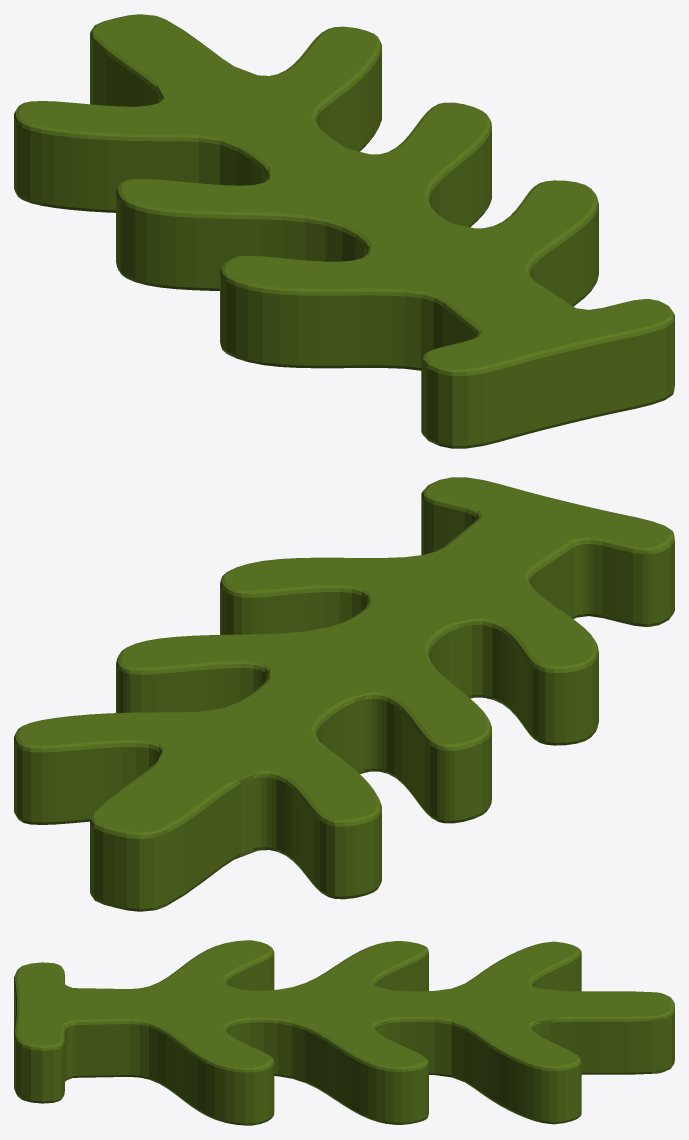
The model's file is leafsymbol.fbx.
3 views of the same model, one above another, from view 1: azimuth 30°, elevation 25°; view 2: azimuth 150°, elevation 25°; view 3: azimuth 270°, elevation 25° (orthographic). The views are drawn at different scales.
Parts seen in each view (by area): view 1: leafsymbol; view 2: leafsymbol; view 3: leafsymbol.
Part boxes in pixels (box(x1,y1,x2,y2)): leafsymbol: box(14, 14, 674, 448); leafsymbol: box(14, 477, 674, 911); leafsymbol: box(14, 940, 674, 1125).
Bounding box in the file's own units: 37.98 × 7.84 × 81.47.
